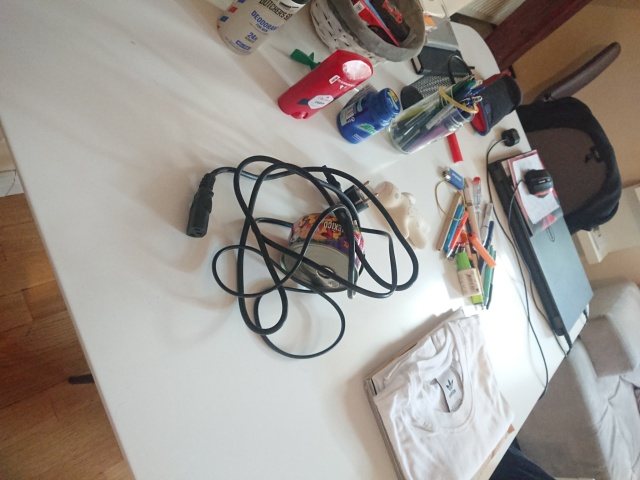Giana Tuna Salad Mexico 185g: (279, 210, 366, 296)
